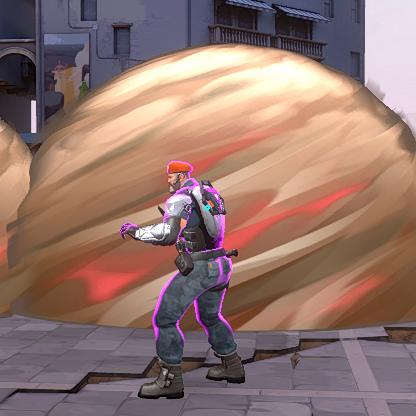enemyBody: (167, 195, 234, 276)
enemyHead: (163, 162, 194, 187)
